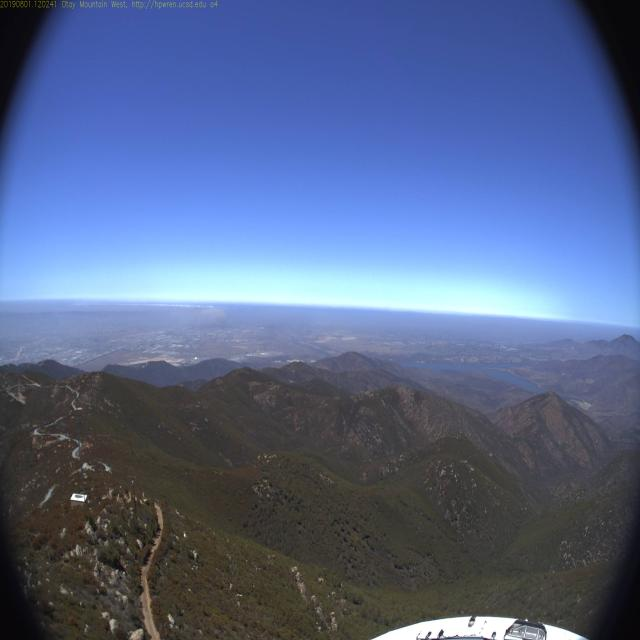smoke: (212, 309, 236, 343)
